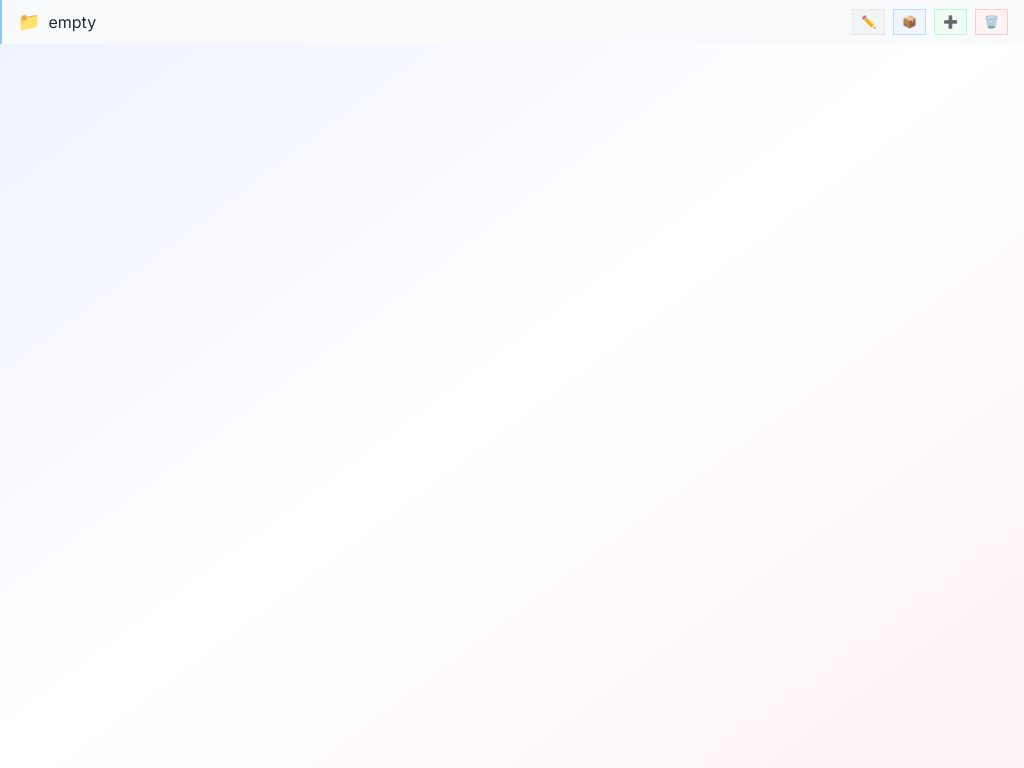
it: FileTreeNode › displays empty folder message when no children
This screenshot has width=1024, height=768.
Click the text "empty" at (72, 22), box [48,12,96,32]
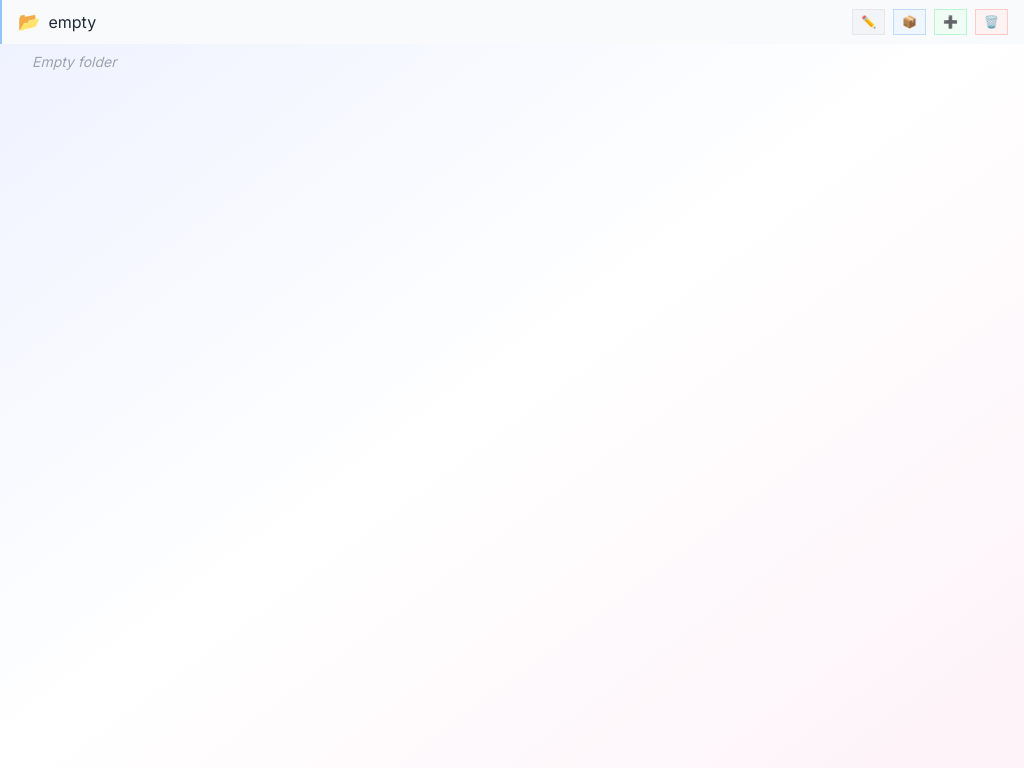
expect the text "Empty folder" is shown: met, box [32,53,116,70]
